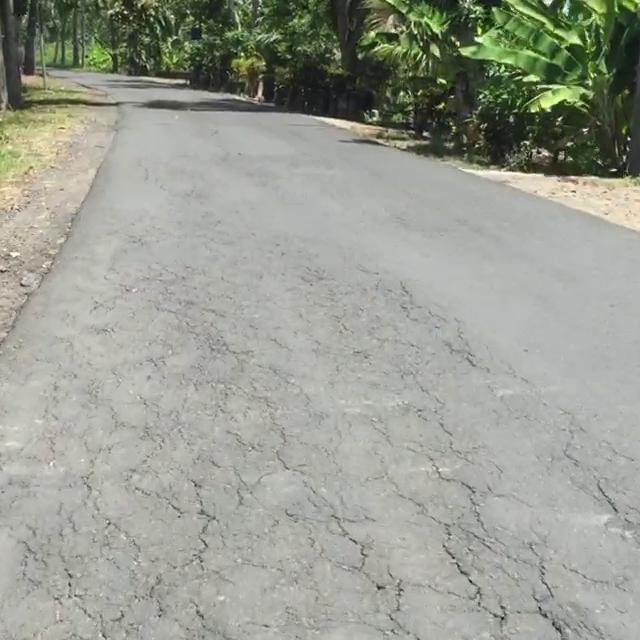retak_kulit_buaya: (50, 295, 565, 640), (465, 402, 640, 640)
